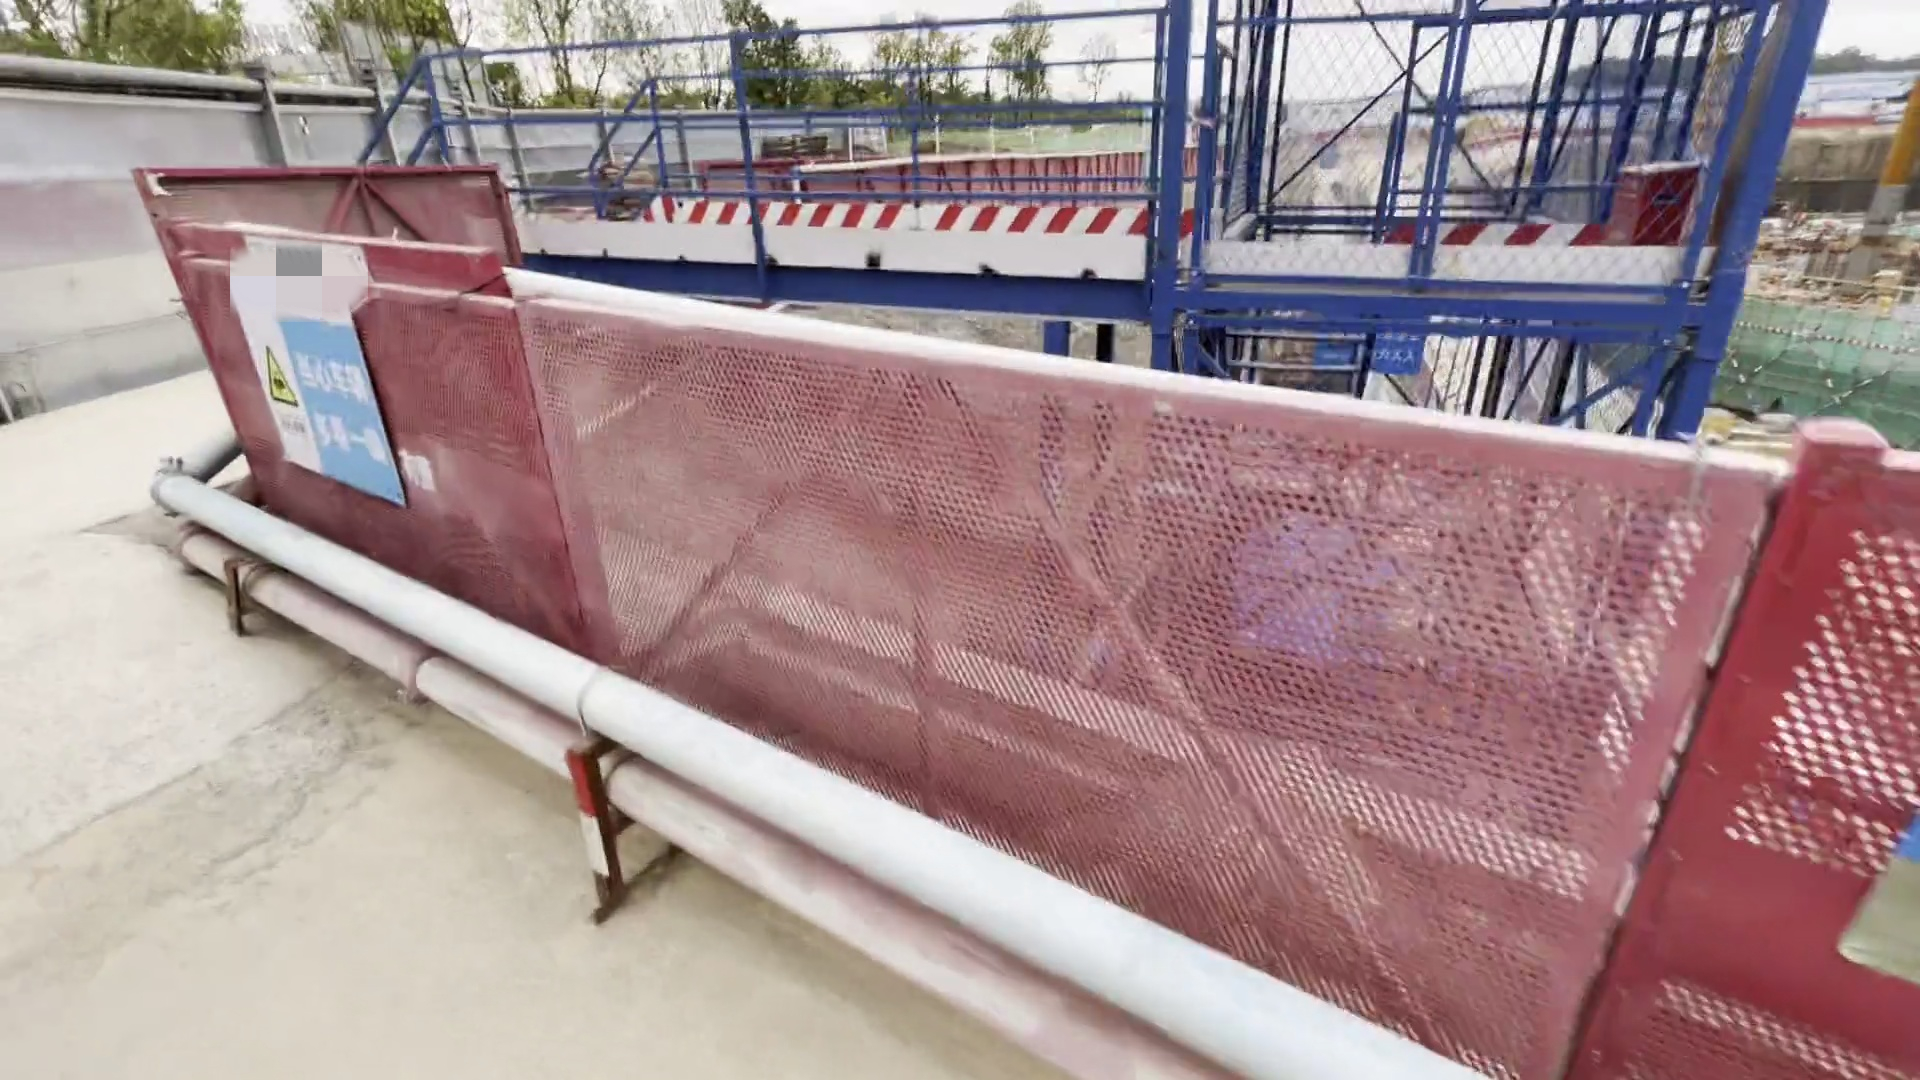fence: (59, 199, 1873, 1052)
slogan: (225, 260, 407, 495)
